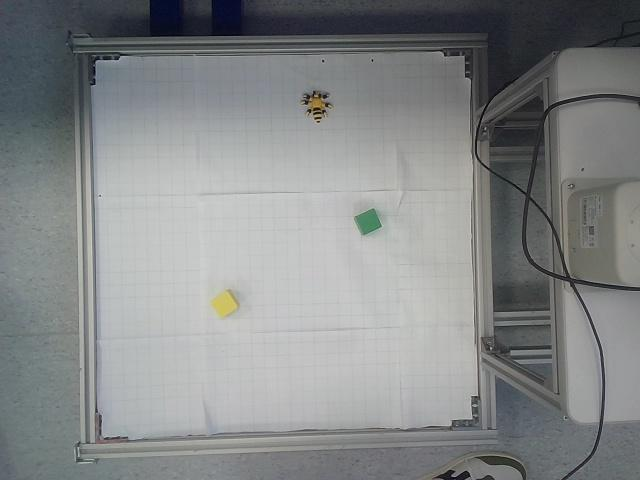frelon: (299, 88, 334, 124)
